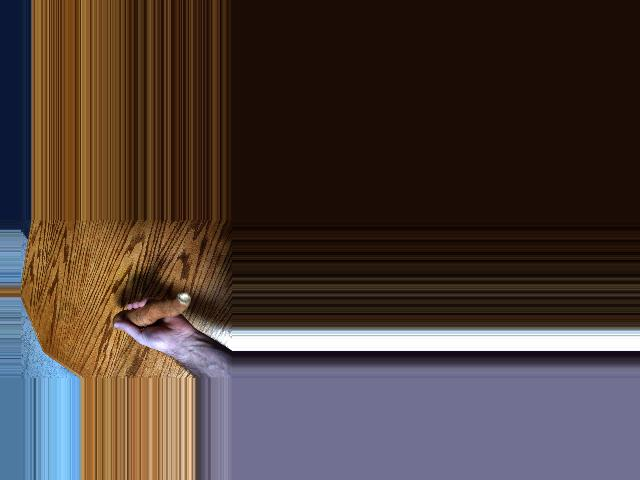sweet_potato: (109, 293, 196, 327)
